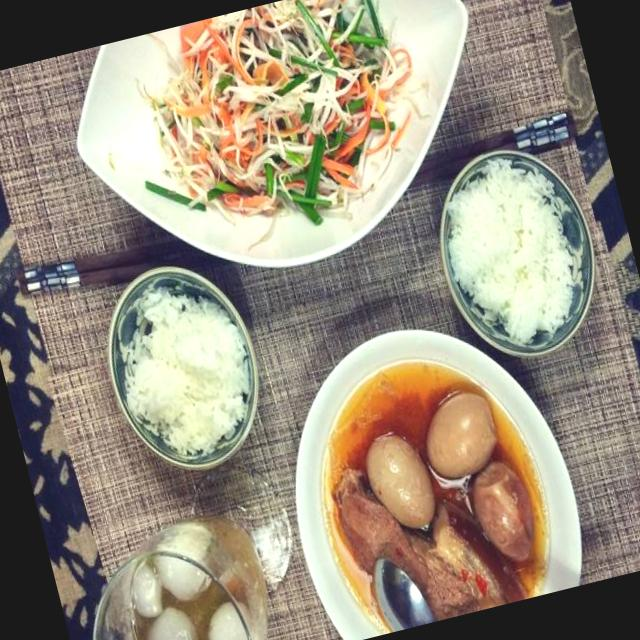com: (448, 161, 574, 343), (122, 289, 250, 456)
kho trung: (338, 391, 534, 619)
rau: (144, 0, 412, 224)
